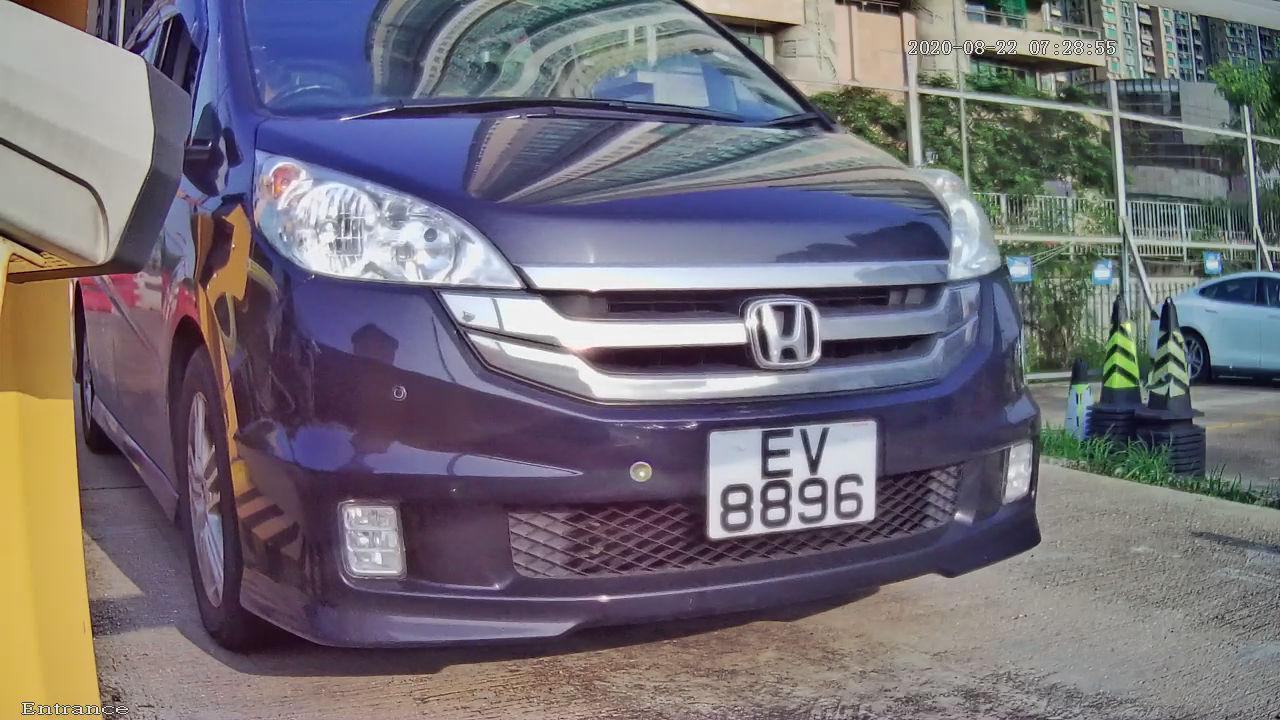License Plate: (692, 406, 886, 550)
